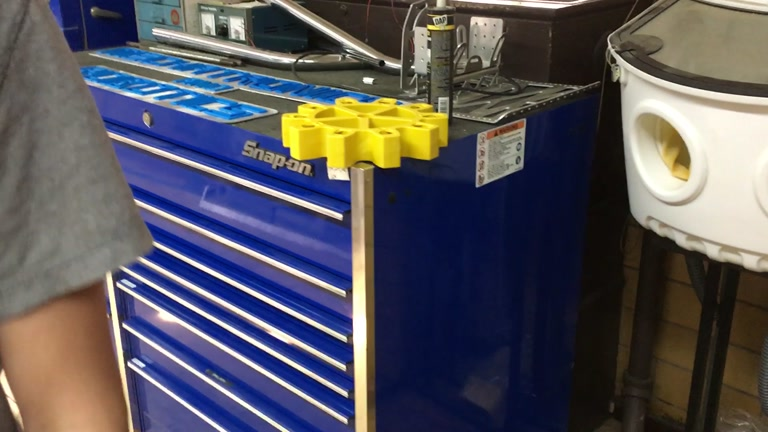gear: (281, 96, 448, 169)
